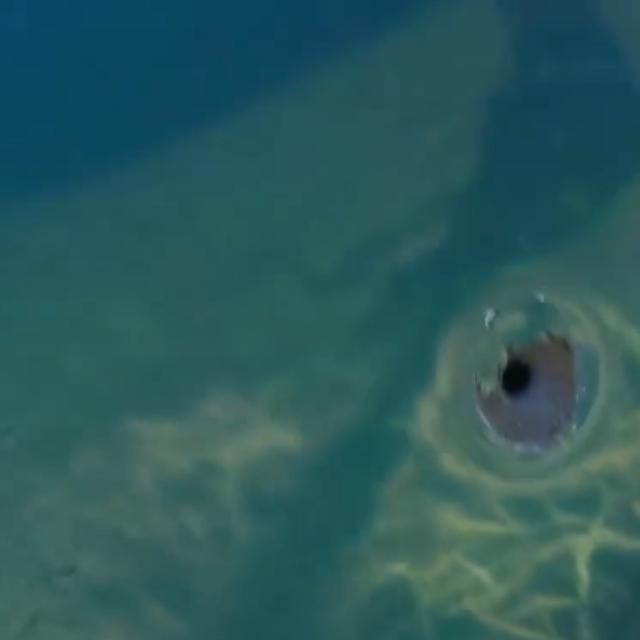bullets: (443, 304, 586, 448)
